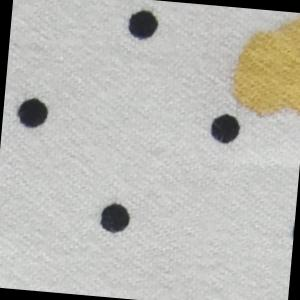Stain: (225, 8, 300, 128)
